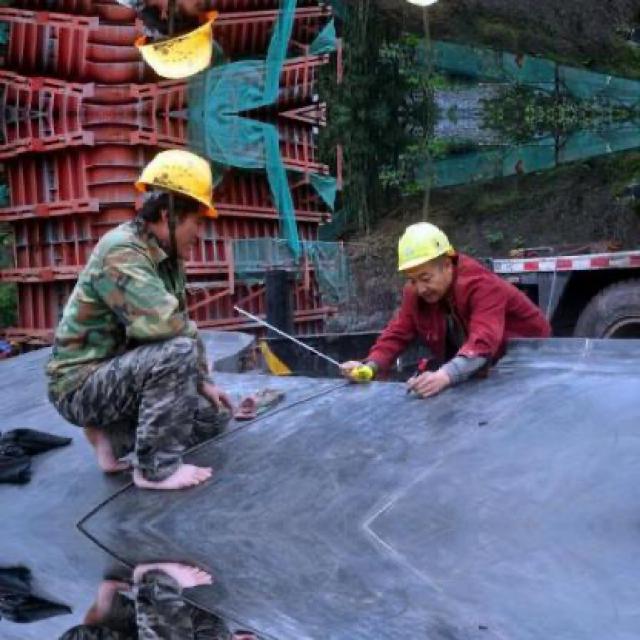helmet: (126, 139, 225, 257), (124, 0, 224, 91), (396, 214, 464, 304)
